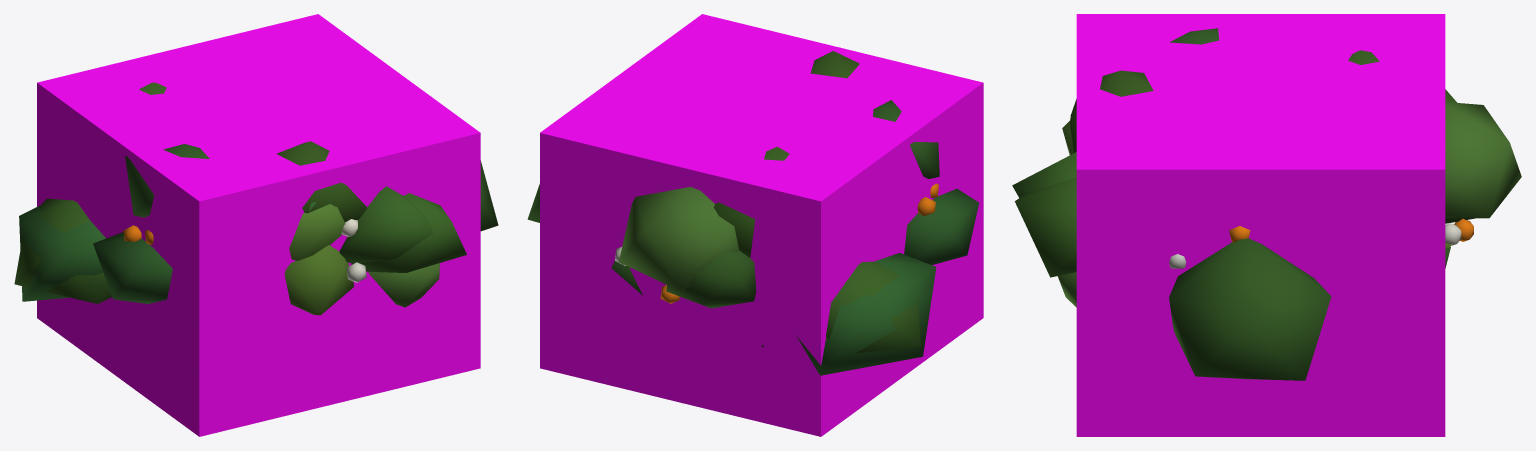
File: PRP_Flowering_Shrub_A.glb
3 renders of one model, left to right at view 1: azimuth 30°, elevation 25°; view 2: azimuth 150°, elevation 25°; view 3: azimuth 270°, elevation 25°, orthographic. The views are drawn at different scales.
Parts seen in each view (by area): view 1: COL_Shrub, PRP_Flowering_Shrub_A_Mesh; view 2: COL_Shrub, PRP_Flowering_Shrub_A_Mesh; view 3: COL_Shrub, PRP_Flowering_Shrub_A_Mesh.
Boxes of the visible parts, x1=… form: COL_Shrub: x1=37, y1=14, x2=480, y2=436; PRP_Flowering_Shrub_A_Mesh: x1=14, y1=82, x2=498, y2=315; COL_Shrub: x1=540, y1=14, x2=983, y2=436; PRP_Flowering_Shrub_A_Mesh: x1=527, y1=51, x2=978, y2=375; COL_Shrub: x1=1076, y1=14, x2=1445, y2=436; PRP_Flowering_Shrub_A_Mesh: x1=1012, y1=28, x2=1521, y2=380.
Size of the model in its own units: 1.48 by 0.8479 by 1.38.
